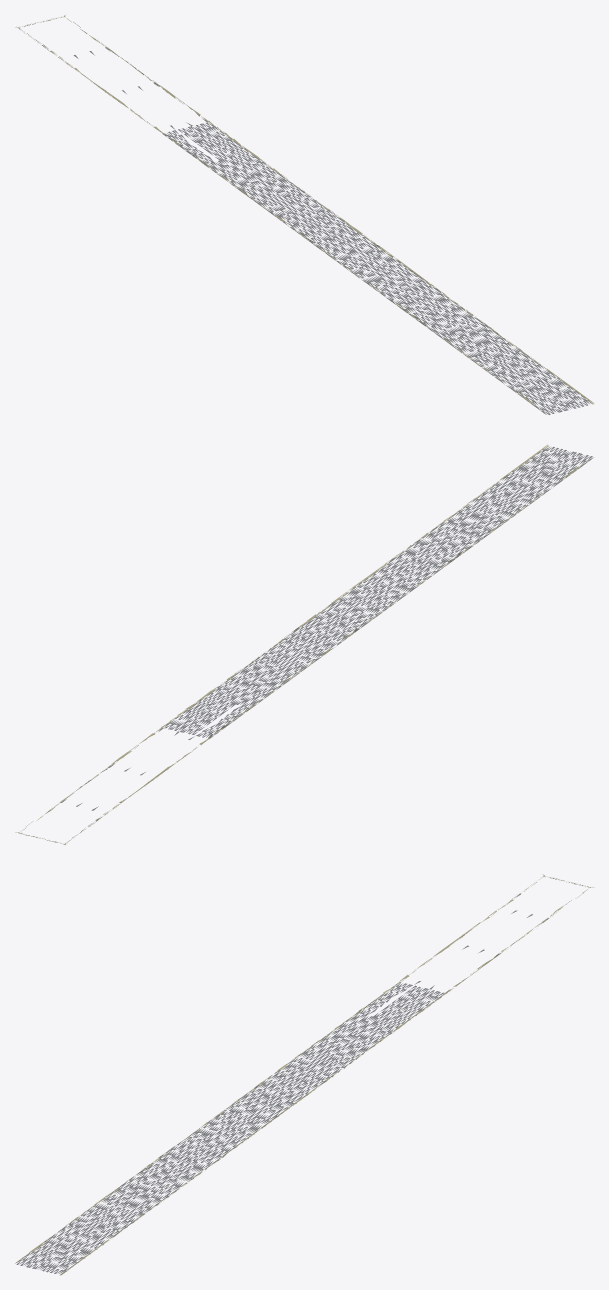
File: fallroad.glb
The picture shows the model from 3 angles, top to bottom: view 1: azimuth 30°, elevation 25°; view 2: azimuth 150°, elevation 25°; view 3: azimuth 330°, elevation 25°; orthographic projection.
Visible parts, largest first — view 1: m1, m0; view 2: m1, m0; view 3: m1, m0.
Part boxes in pixels (bbox=[...]): m1: bbox=[73, 47, 590, 414]; m0: bbox=[15, 15, 594, 413]; m1: bbox=[60, 447, 592, 810]; m0: bbox=[15, 444, 591, 844]; m1: bbox=[15, 910, 548, 1273]; m0: bbox=[16, 874, 594, 1275].
Size of the model in its own units: 7.78 by 0.2022 by 135.
